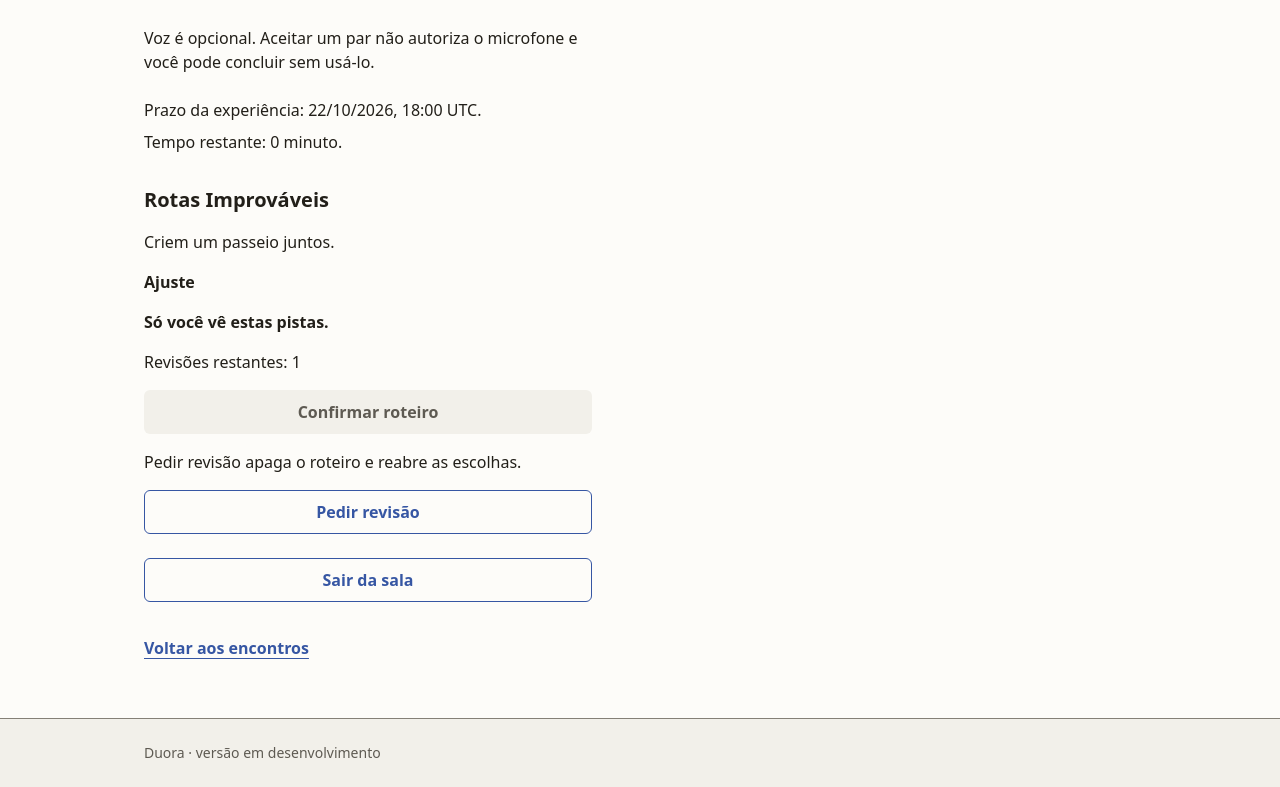
Test case: Routes room › requests revision and disables it when no revisions remain
This screenshot has width=1280, height=787.
(page scrolled)
Click the button "Pedir revisão". click: (368, 512)
box: [144,490,592,534]
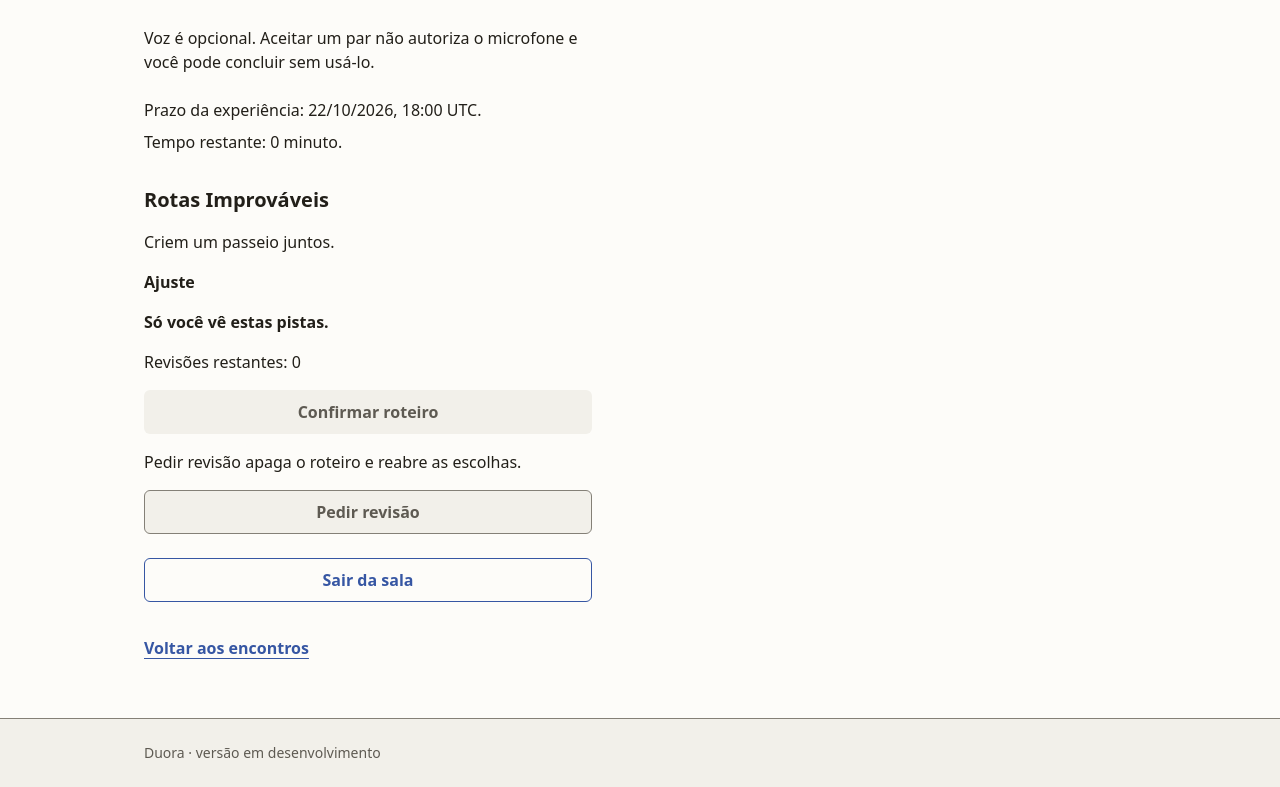
Check: the text "Revisões restantes: 0" is shown, box [144,351,301,373]
Check: the button "Pedir revisão" is disabled, box [144,490,592,534]
